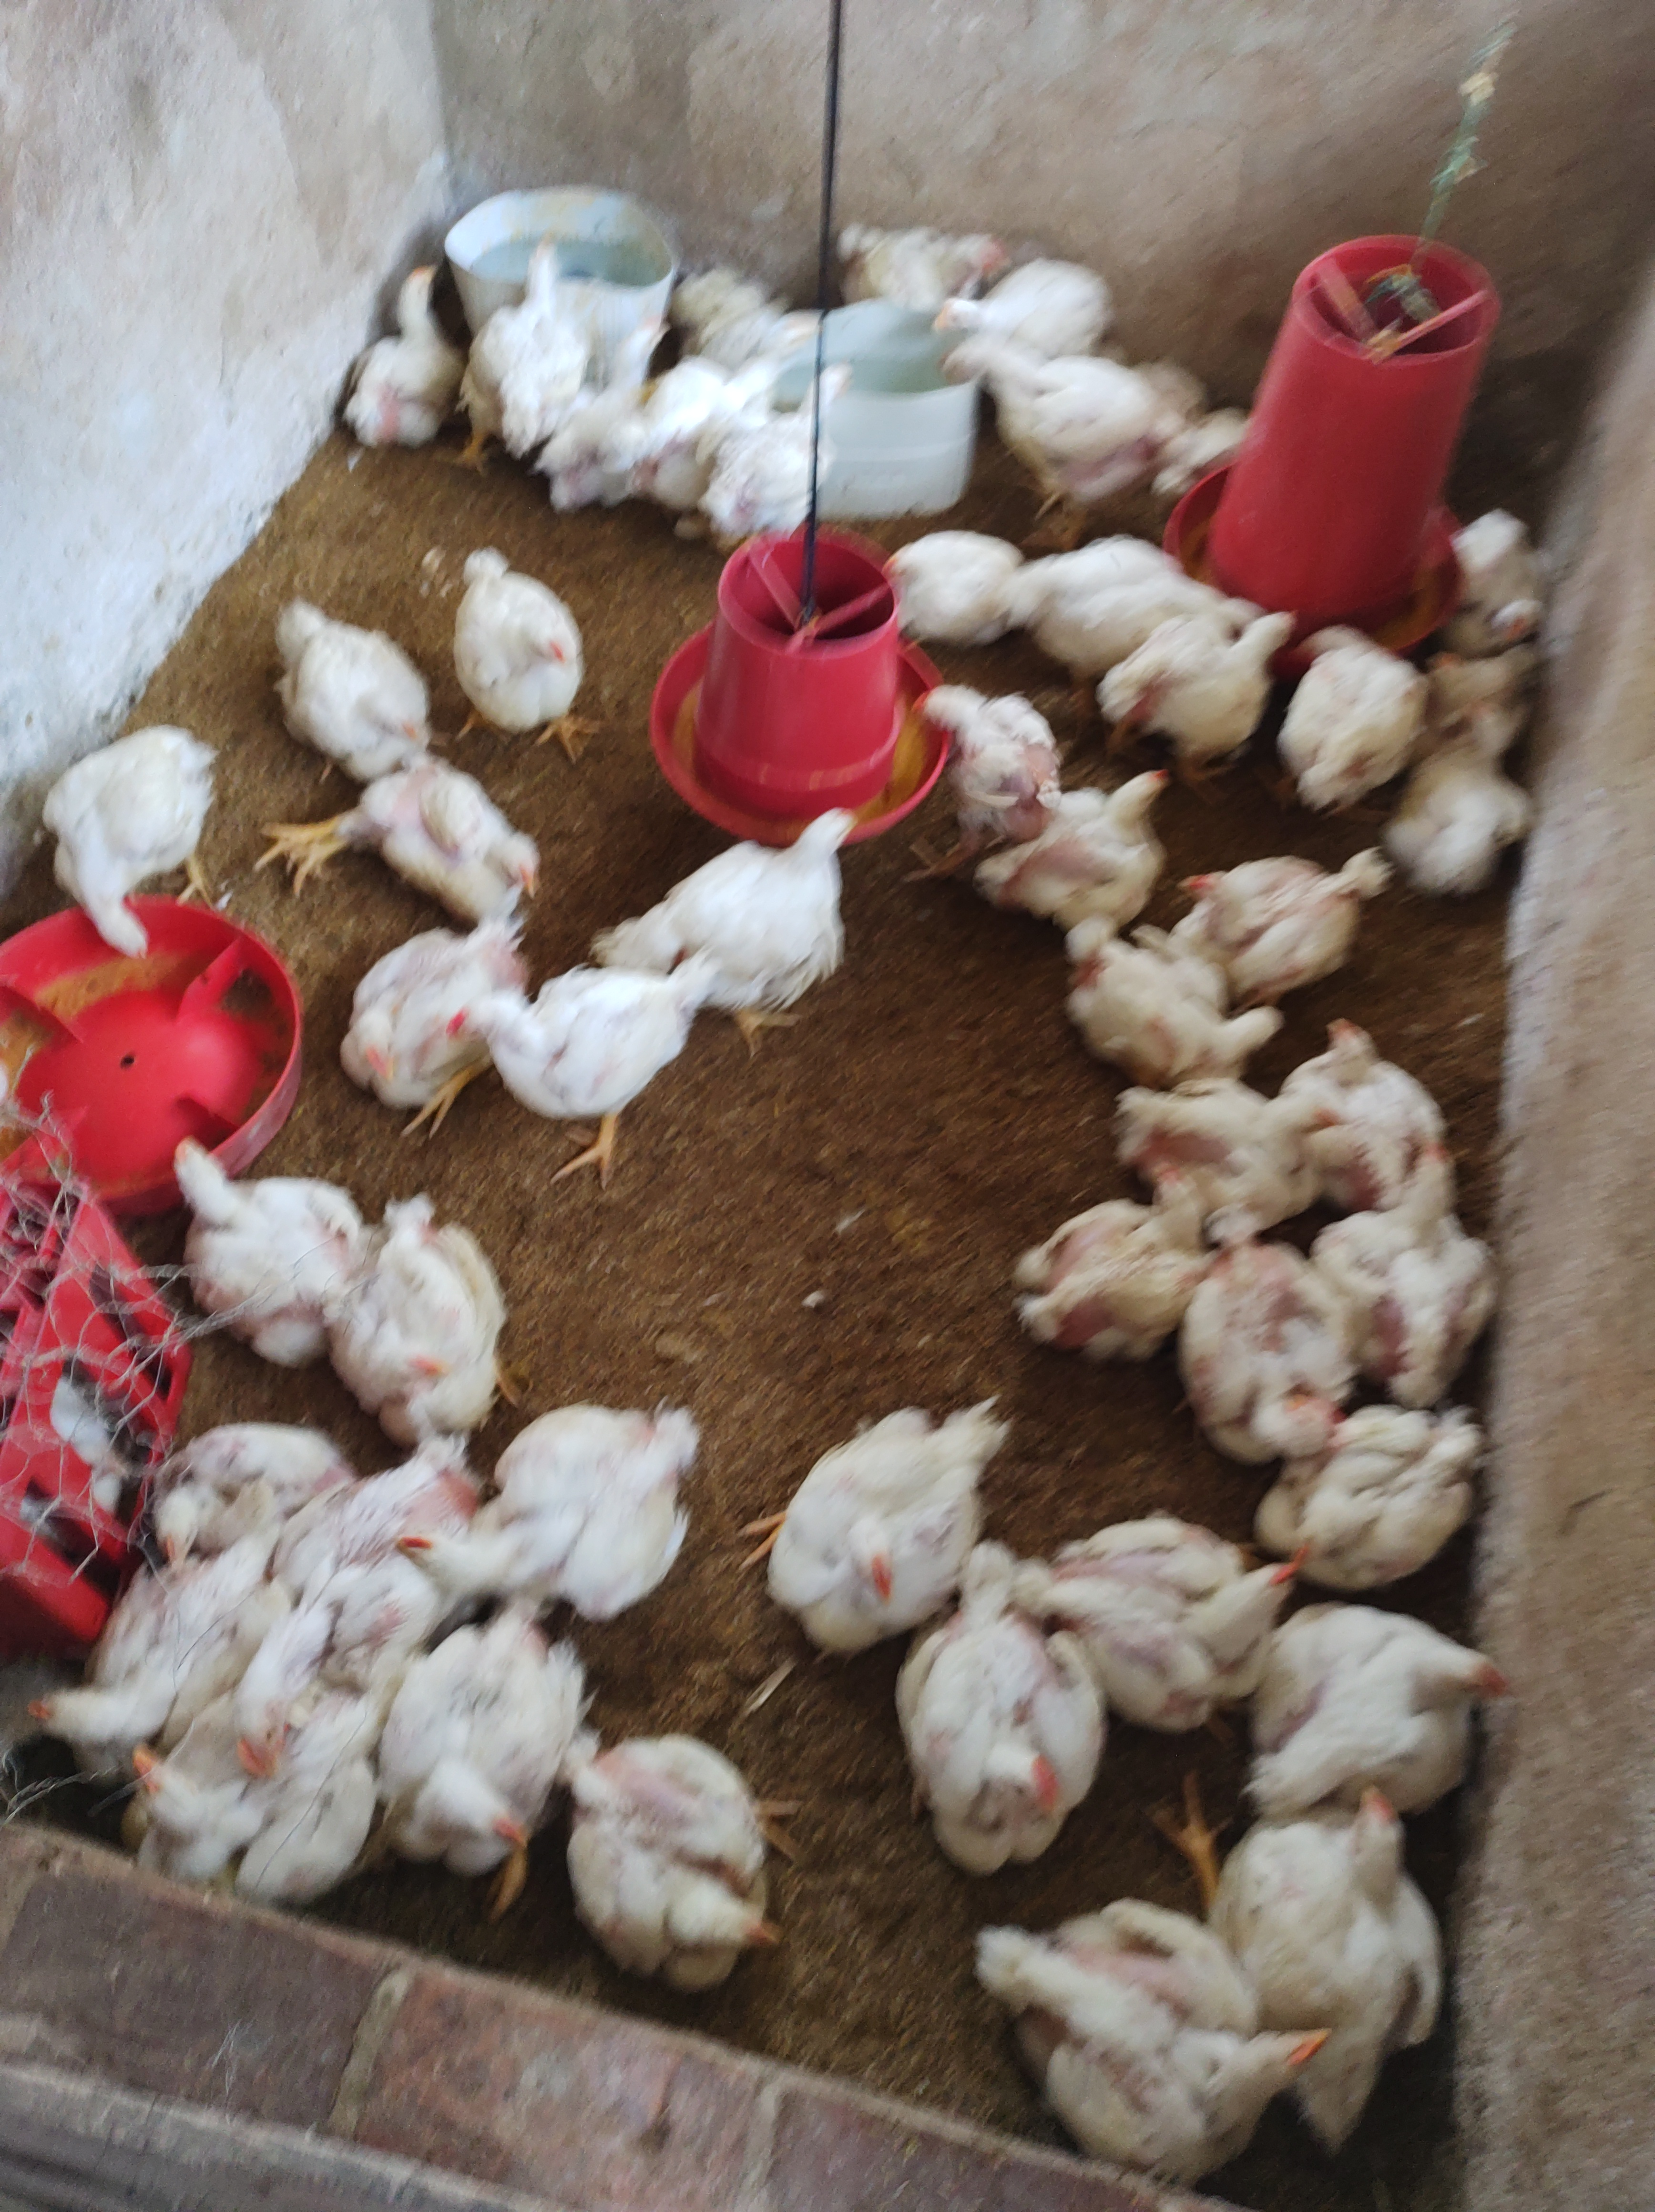Pollos: (958, 1899, 1326, 2198), (1248, 1770, 1483, 2132), (542, 1730, 748, 2078), (414, 1407, 702, 1645), (901, 1588, 1121, 1887), (772, 1382, 991, 1671), (31, 699, 236, 988), (1081, 1494, 1314, 1746), (1274, 1603, 1505, 1849), (395, 1596, 586, 1880), (14, 1588, 231, 1831), (461, 970, 713, 1177), (1323, 1118, 1514, 1353), (1279, 1374, 1518, 1560), (144, 1104, 315, 1356), (322, 221, 489, 468), (341, 892, 516, 1123), (706, 779, 873, 1019), (1281, 562, 1422, 835), (250, 551, 426, 769), (937, 334, 1187, 480), (445, 233, 641, 419), (1017, 1153, 1194, 1353), (443, 544, 615, 736), (1116, 1068, 1314, 1233), (1001, 751, 1206, 908), (1057, 904, 1241, 1076), (358, 1228, 506, 1438), (1180, 838, 1372, 991), (1203, 1252, 1340, 1462), (376, 762, 553, 922), (855, 475, 1026, 640), (916, 631, 1041, 849), (14, 1334, 144, 1542), (1415, 565, 1568, 725), (108, 1734, 264, 1885), (1396, 744, 1558, 890), (1182, 596, 1314, 758), (728, 356, 845, 536), (1034, 499, 1193, 621), (923, 263, 1116, 362), (635, 330, 761, 478), (139, 1416, 261, 1560), (1097, 638, 1203, 750), (231, 1652, 334, 1762), (821, 198, 944, 283)
